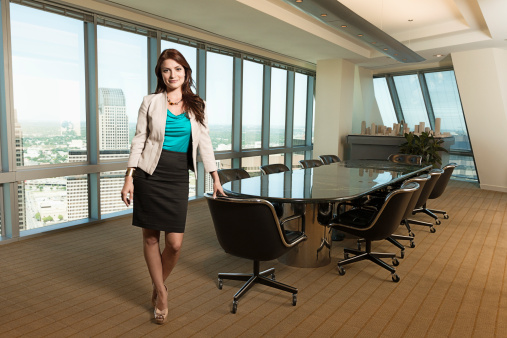em pe: (125, 46, 212, 311)
